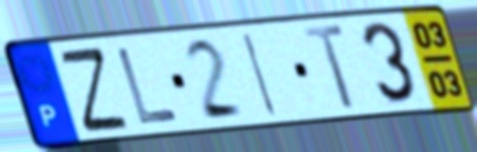2: (179, 37, 246, 122)
3: (360, 18, 420, 108)
I: (240, 29, 280, 119)
L: (113, 45, 183, 127)
T: (301, 22, 360, 113)
Z: (55, 44, 132, 136)
